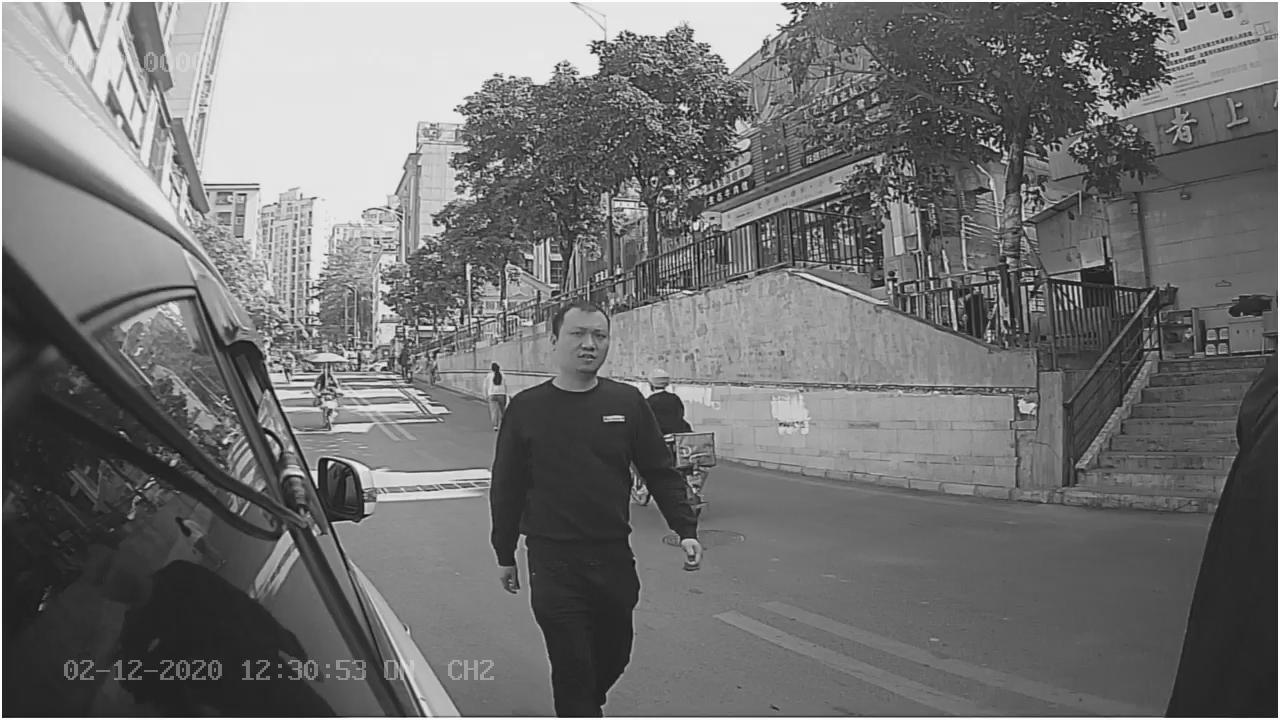person: (485, 295, 715, 602)
